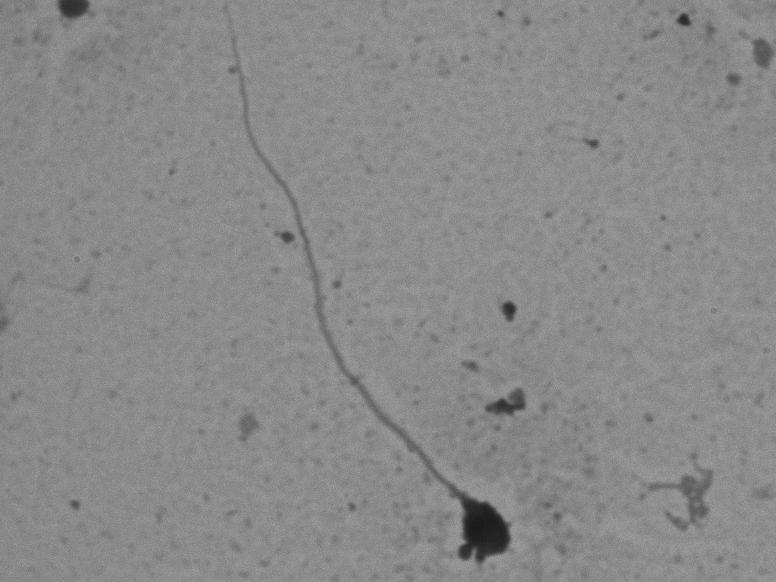Abnormal: (183, 8, 522, 570)
